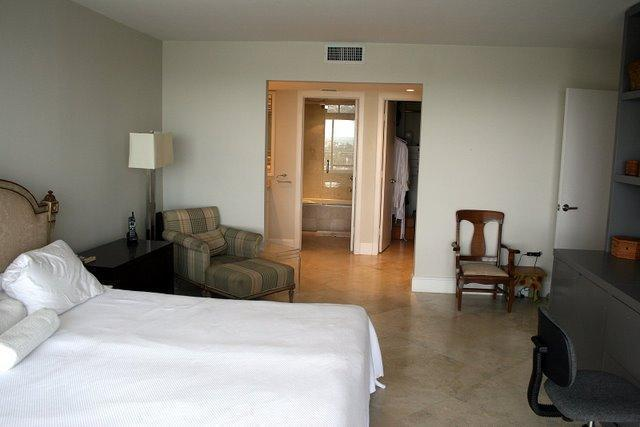Cama: (4, 178, 383, 426)
Puerta: (561, 83, 608, 248)
